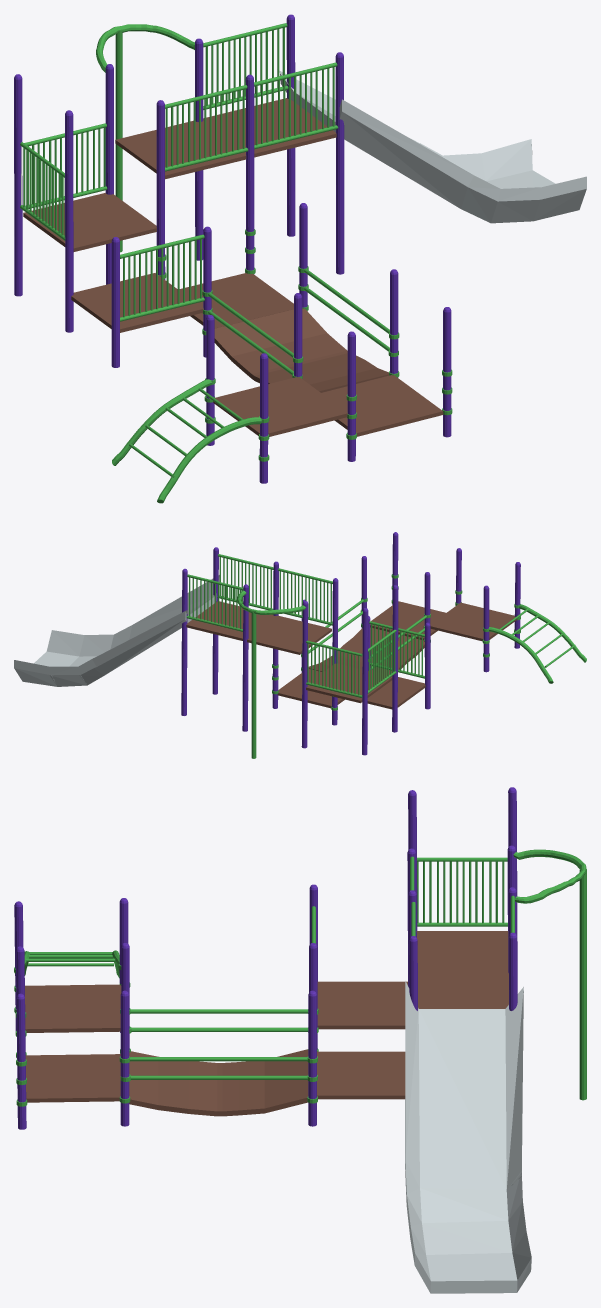
File: Play Structure.glb
3 renders of one model, top to bottom at view 1: azimuth 30°, elevation 25°; view 2: azimuth 150°, elevation 25°; view 3: azimuth 270°, elevation 25°, orthographic. The views are drawn at different scales.
Parts seen in each view (by area): view 1: group905881478, group1613961528, group871030222, group1226028820, group1908301317, group299249815, group1811744593, group638899843, group632006999, group2011796231, group267854177, group1487250920 (+23 smaller); view 2: group905881478, group871030222, group1226028820, group1613961528, group859758212, group1180122693, group1908301317, group632006999, group638899843, group299249815, group267854177, group1487250920 (+21 smaller); view 3: group905881478, group1613961528, group871030222, group1226028820, group299249815, group1811744593, group2011796231, group1487250920, group1787619521, group1499783986, group1518409211, group1868284783 (+8 smaller).
Boxes of the visible parts, <box> form: group905881478: <box>279,70,586,223</box>; group1613961528: <box>214,308,388,392</box>; group871030222: <box>115,98,336,179</box>; group1226028820: <box>213,377,347,436</box>; group1908301317: <box>23,193,156,251</box>; group299249815: <box>321,375,443,436</box>; group1811744593: <box>71,273,203,332</box>; group638899843: <box>254,62,338,149</box>; group632006999: <box>165,85,248,171</box>; group2011796231: <box>179,273,293,328</box>; group267854177: <box>120,234,204,321</box>; group1487250920: <box>20,142,65,240</box>; group905881478: <box>14,575,219,686</box>; group871030222: <box>186,601,331,654</box>; group1226028820: <box>430,602,516,641</box>; group1613961528: <box>308,627,424,674</box>; group859758212: <box>306,640,362,697</box>; group1180122693: <box>186,574,243,631</box>; group1908301317: <box>306,663,392,703</box>; group632006999: <box>278,568,332,625</box>; group638899843: <box>217,554,273,610</box>; group299249815: <box>370,601,445,640</box>; group267854177: <box>369,621,424,678</box>; group1487250920: <box>362,629,396,695</box>; group905881478: <box>405,981,531,1293</box>; group1613961528: <box>129,1049,308,1116</box>; group871030222: <box>416,931,508,1008</box>; group1226028820: <box>25,984,121,1032</box>; group299249815: <box>25,1054,120,1102</box>; group1811744593: <box>317,981,407,1029</box>; group2011796231: <box>317,1051,405,1099</box>; group1487250920: <box>417,857,507,926</box>; group1787619521: <box>579,869,586,1100</box>; group1499783986: <box>120,990,129,1126</box>; group1518409211: <box>16,993,26,1129</box>; group1868284783: <box>513,849,586,903</box>.
Size of the model in its own units: 6.94 by 2.51 by 5.35.
